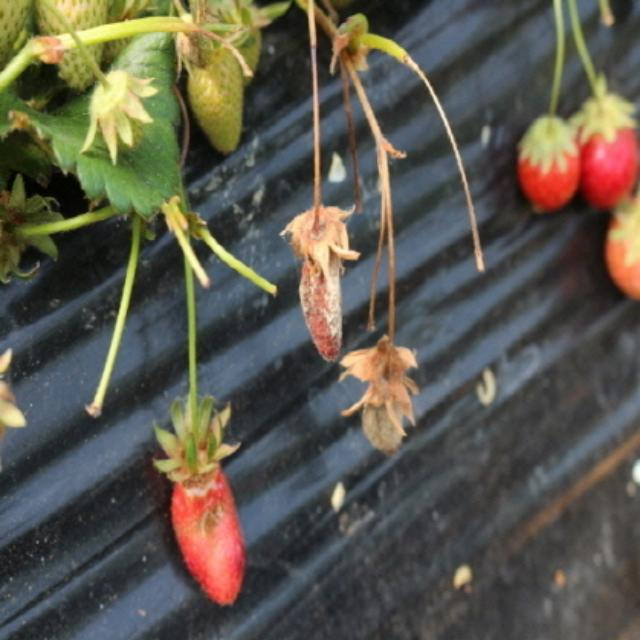Gray Mold: (279, 204, 362, 363), (338, 331, 418, 453)
